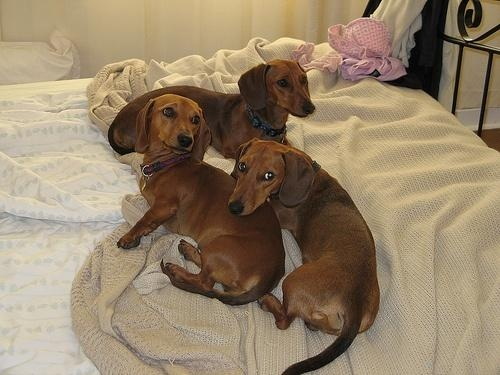dog: (228, 138, 381, 375), (118, 94, 286, 307), (108, 60, 320, 160)
